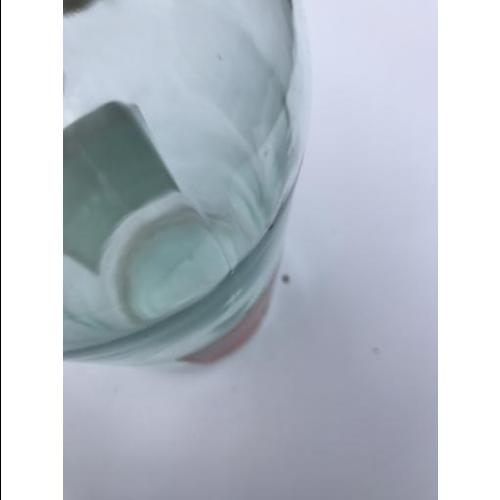glass: (63, 5, 301, 365)
